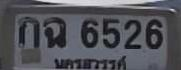2: (123, 19, 140, 48)
5: (102, 18, 119, 48)
6: (145, 18, 162, 48), (80, 18, 97, 47)
A01: (18, 16, 39, 47)
A09: (42, 16, 66, 47)
NSN: (51, 54, 130, 70)
